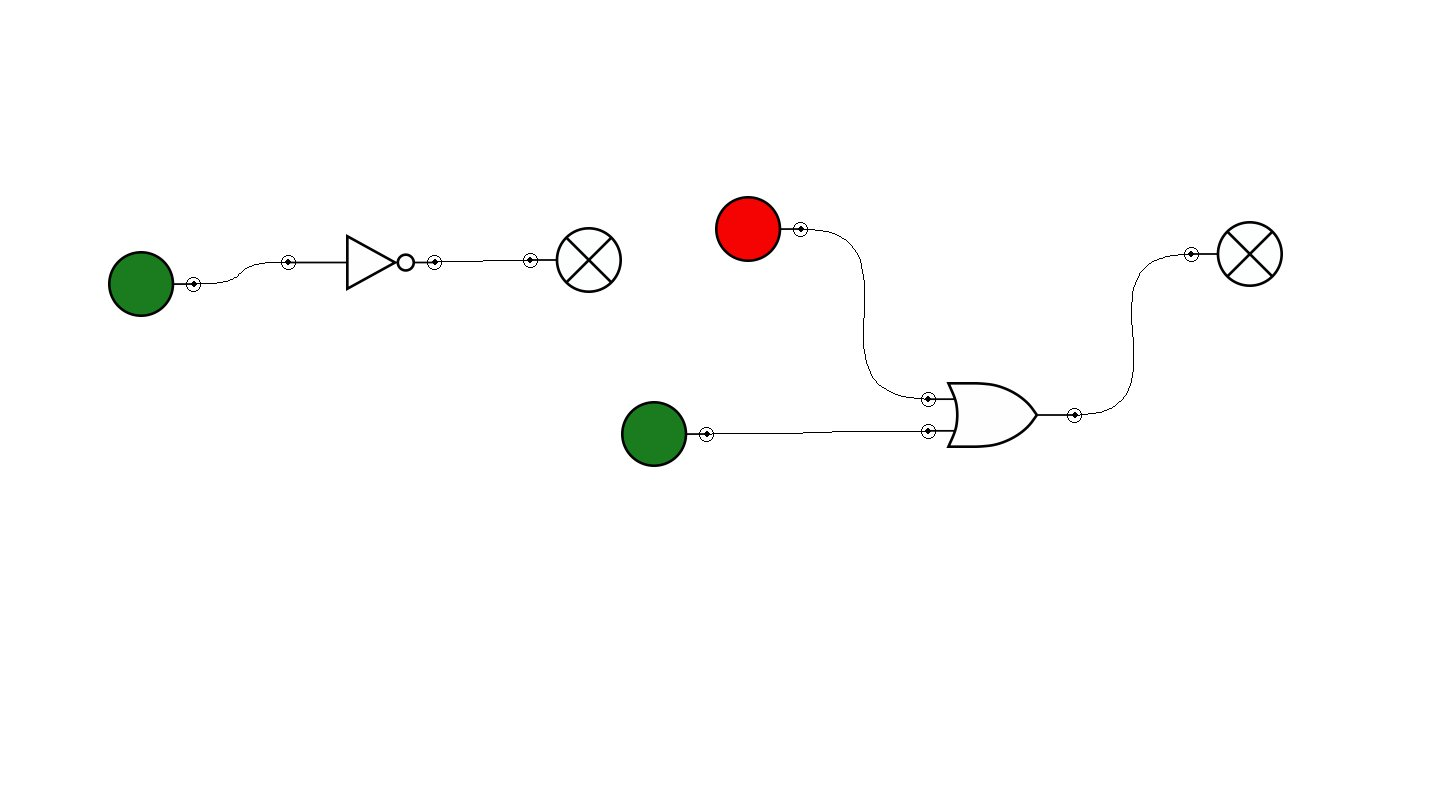bulb: (523, 227, 622, 293), (1184, 221, 1283, 287)
not: (281, 234, 442, 291)
or: (921, 382, 1082, 448)
switch_False: (715, 196, 808, 262)
switch_True: (621, 401, 714, 467), (108, 251, 201, 317)
